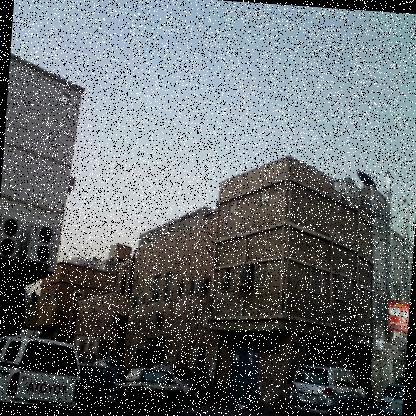Car: (0, 333, 209, 415), (289, 365, 370, 415), (380, 374, 405, 415)
